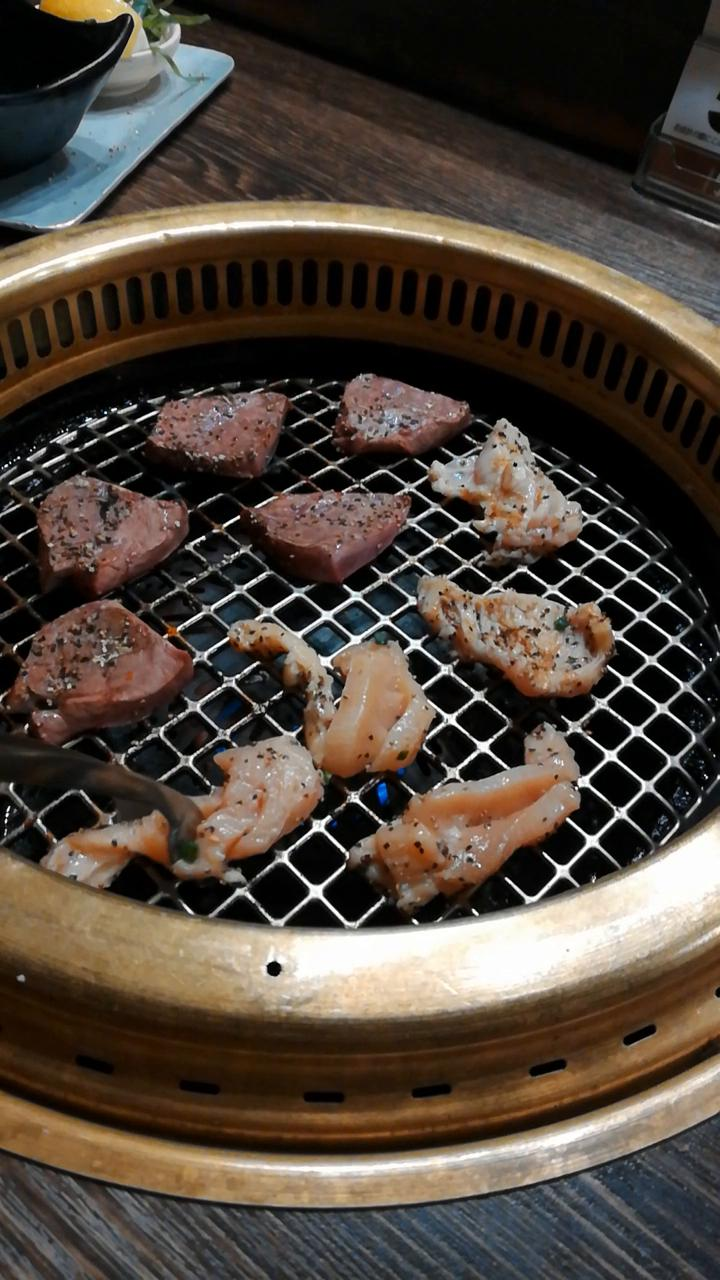half_cooked_chicken: (403, 552, 628, 719), (417, 411, 603, 563)
raw_chicken: (33, 723, 329, 904), (336, 716, 592, 924), (217, 610, 451, 782)
